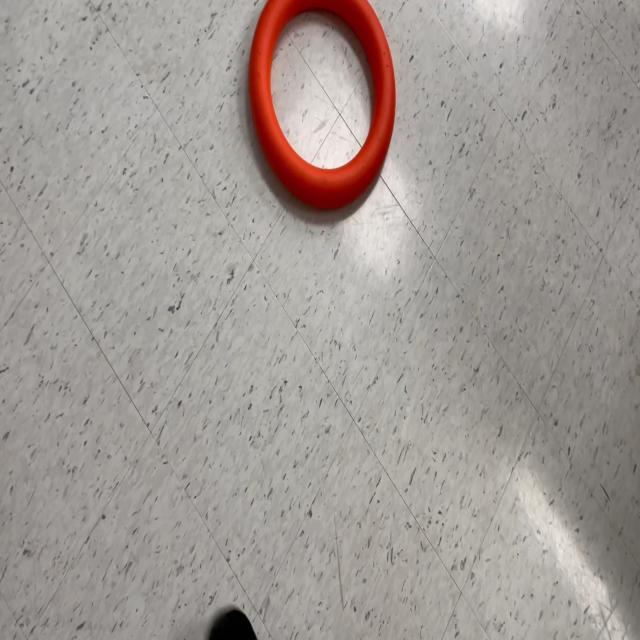note: (249, 0, 396, 210)
